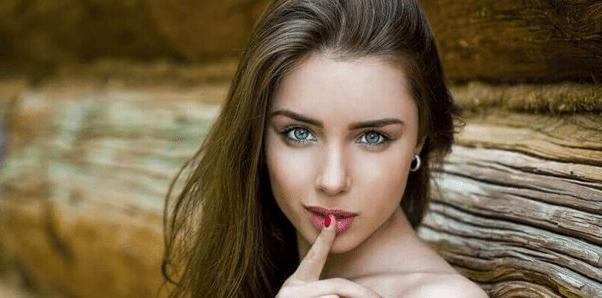Sober: (273, 74, 410, 234)
